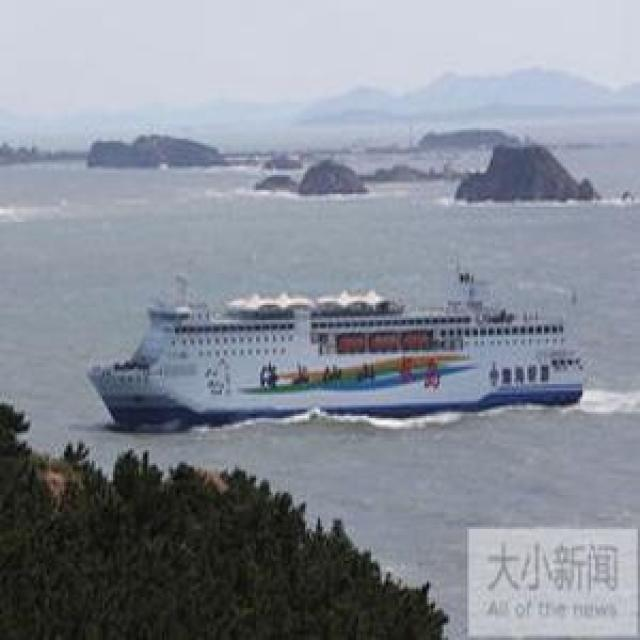passenger ship: (86, 274, 600, 417)
